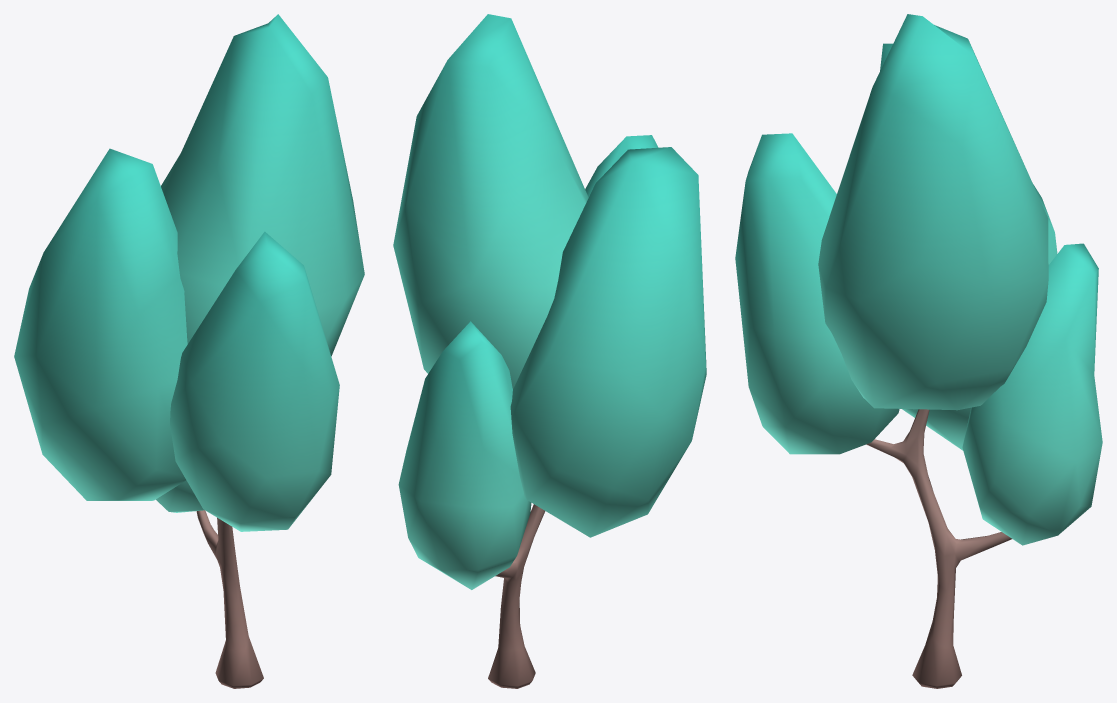
File: Tree01_L_Blue.fbx
The picture shows the model from 3 angles, left to right: view 1: azimuth 30°, elevation 25°; view 2: azimuth 150°, elevation 25°; view 3: azimuth 270°, elevation 25°; orthographic projection. The views are drawn at different scales.
Visible parts, largest first — view 1: Tree01_L_Blue; view 2: Tree01_L_Blue; view 3: Tree01_L_Blue.
Boxes of the visible parts, box(x1,y1,x2,y2) form: Tree01_L_Blue: box(14, 14, 364, 688); Tree01_L_Blue: box(393, 14, 706, 688); Tree01_L_Blue: box(735, 14, 1102, 688).
Size of the model in its own units: 8.08 by 16.8 by 8.23.
